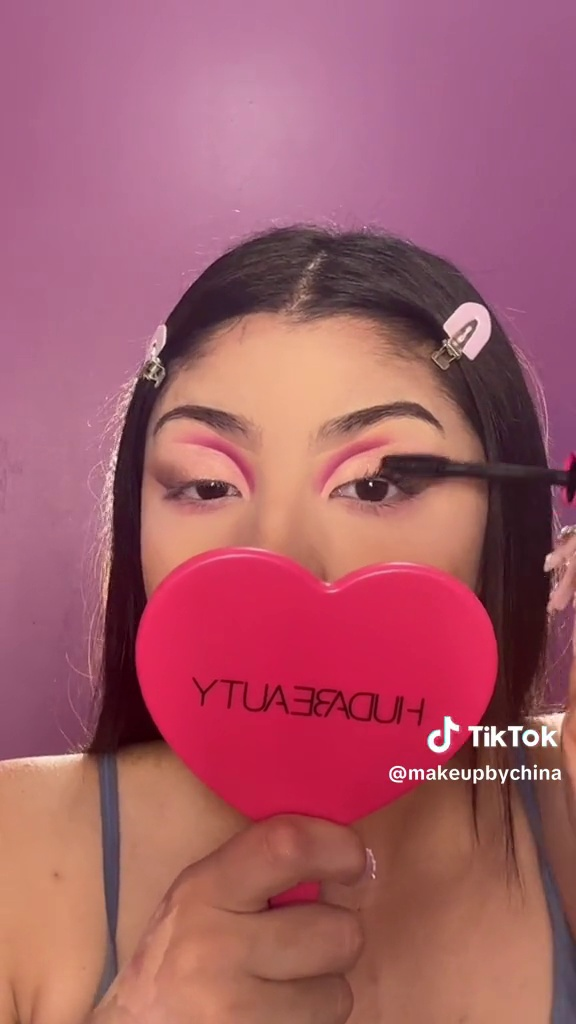train' :'yolo_data/train/images',: (123, 542, 505, 929), (364, 453, 575, 520)
